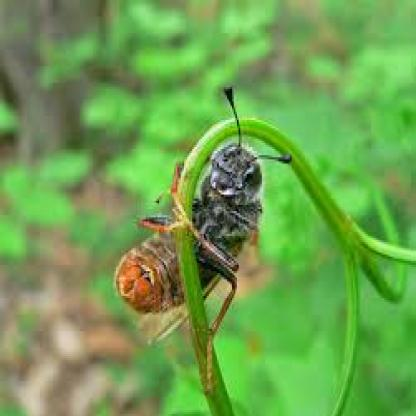sawfly: (113, 86, 294, 399)
